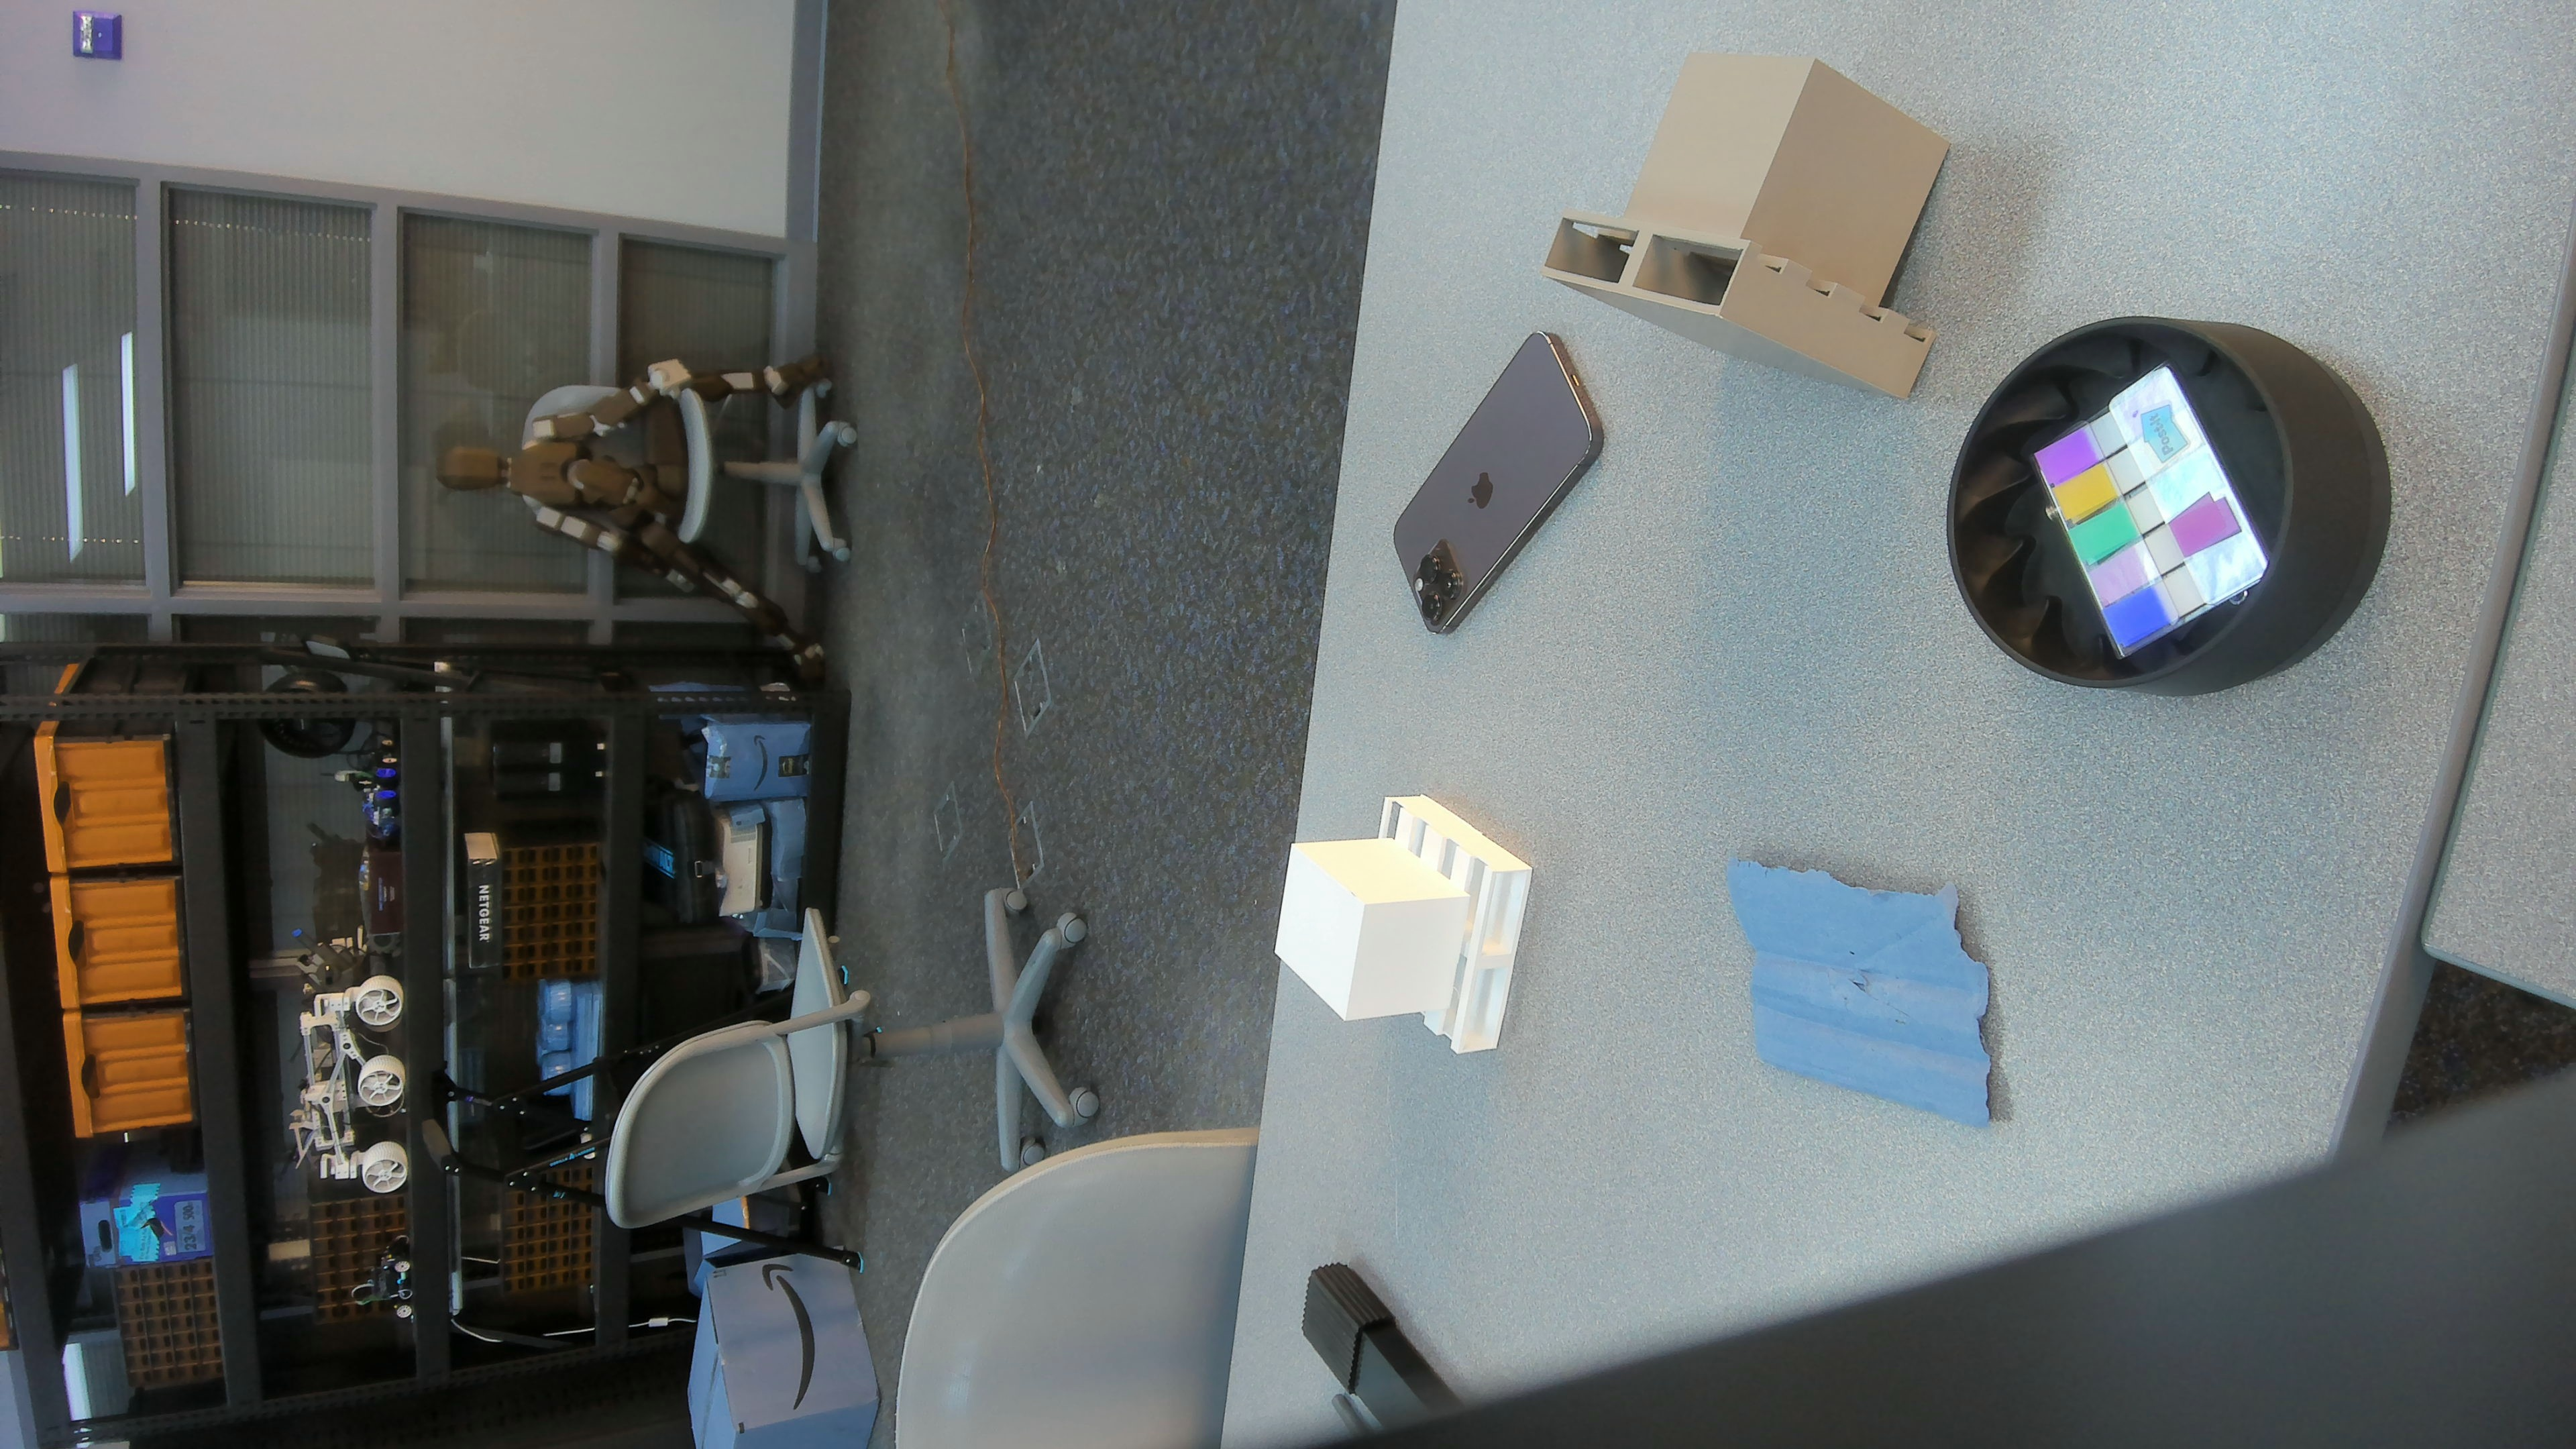grey pallet: (1530, 34, 1959, 430)
white pallet: (1269, 786, 1555, 1074)
